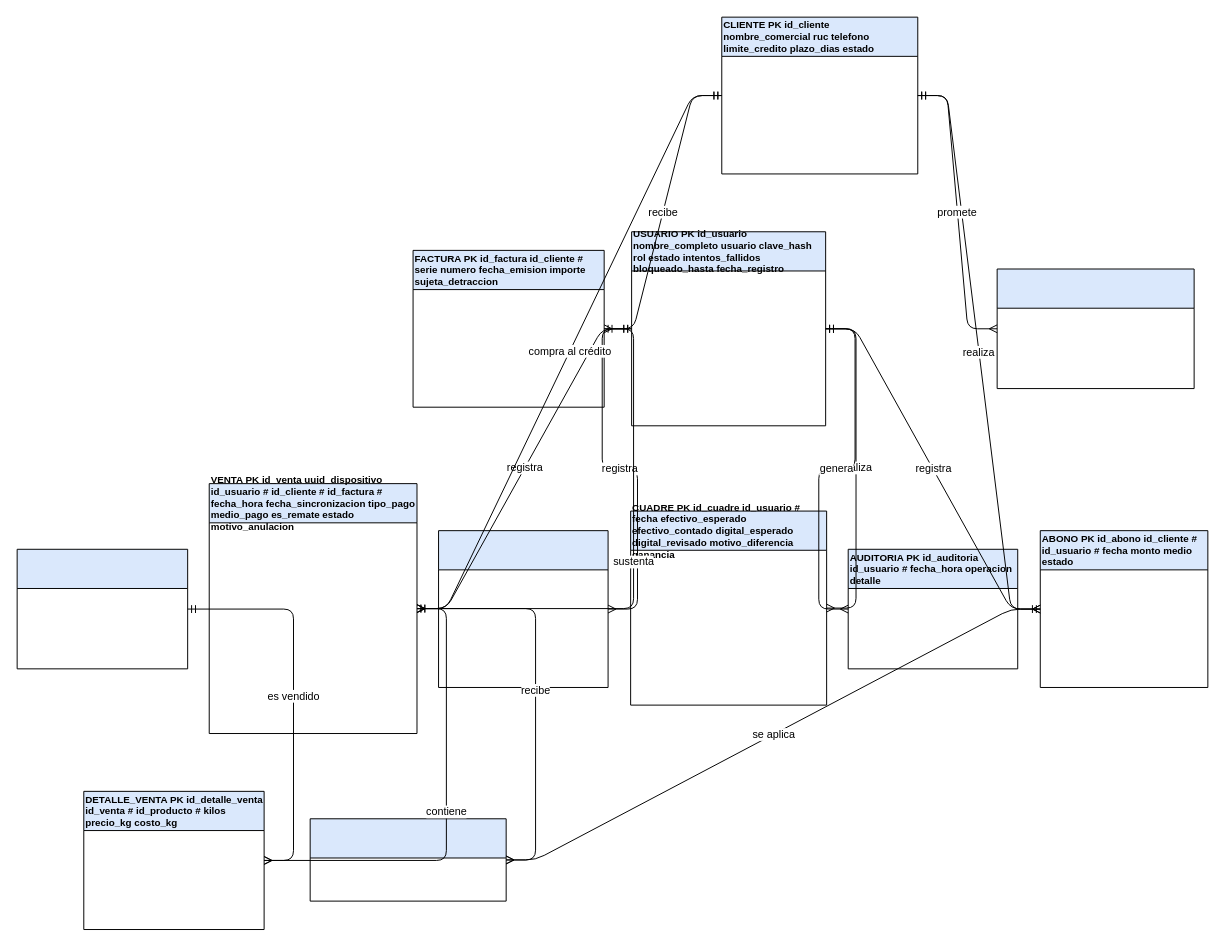
Some shapes in this 1225 by 947 pixel diagram are drawn without their labels. Here are the shapes that lost their labels. From the top down, the box of each, then its label:
(996, 268, 1194, 389): COMPROMISO_PAGO PK id_compromiso id_cliente # fecha_compromiso monto estado
(16, 548, 188, 669): PRODUCTO PK id_producto nombre nombre_corto categoria estado
(438, 530, 608, 687): GASTO PK id_gasto id_usuario # fecha concepto descripcion monto medio
(309, 818, 506, 901): ABONO_VENTA PK id_abono # PK id_venta # monto_aplicado
